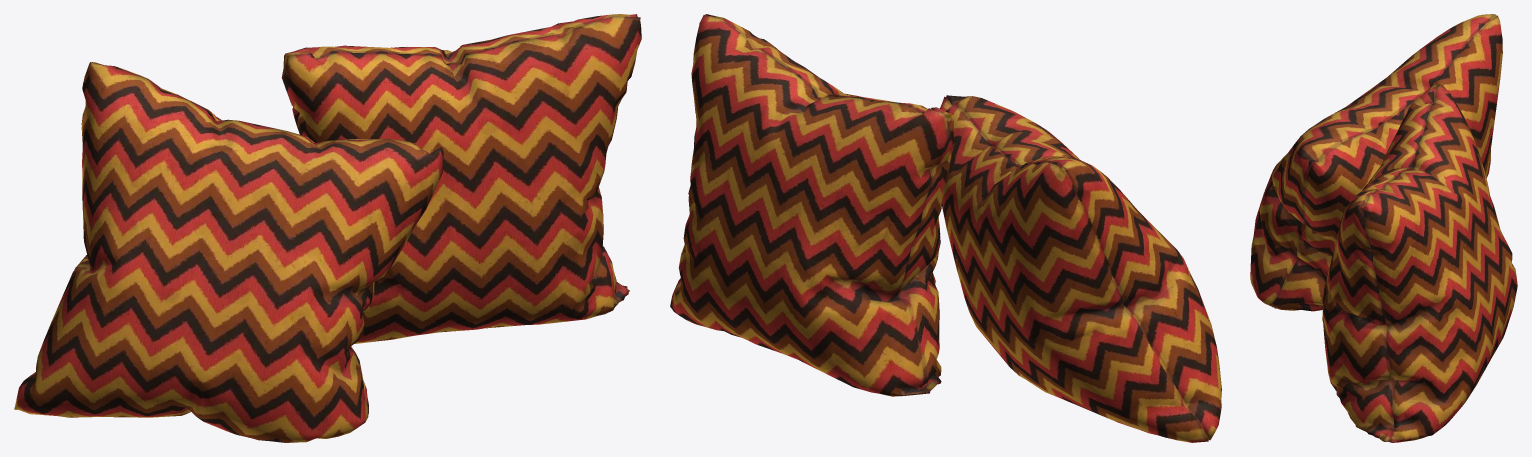
The model's file is throw_pillows_01.glb.
3 views of the same model, side by side, from view 1: azimuth 30°, elevation 25°; view 2: azimuth 150°, elevation 25°; view 3: azimuth 270°, elevation 25° (orthographic). The views are drawn at different scales.
Parts seen in each view (by area): view 1: throw_pillows_01_pillow02; view 2: throw_pillows_01_pillow02; view 3: throw_pillows_01_pillow02.
Part boxes in pixels (x1=…): throw_pillows_01_pillow02: x1=14, y1=14, x2=641, y2=442; throw_pillows_01_pillow02: x1=670, y1=14, x2=1221, y2=442; throw_pillows_01_pillow02: x1=1250, y1=14, x2=1517, y2=442.
Size of the model in its own units: 0.9401 by 0.4501 by 0.4519.
1 material, 1 textured.
